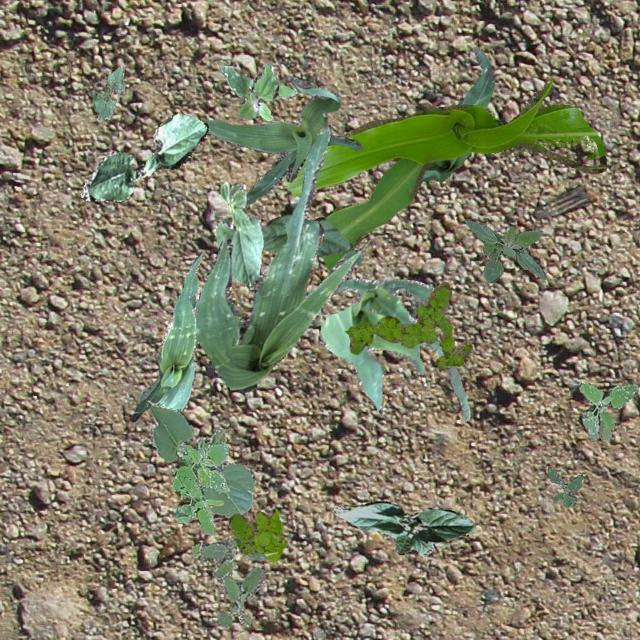crop: (282, 78, 606, 270), (195, 124, 364, 392), (318, 278, 468, 420), (198, 76, 360, 204), (128, 250, 202, 420), (149, 400, 253, 516), (78, 111, 208, 200), (421, 46, 493, 180), (334, 501, 474, 556), (214, 182, 262, 286), (260, 213, 352, 254), (92, 66, 124, 120)
weed: (344, 280, 471, 368), (190, 532, 266, 624), (172, 439, 230, 534), (464, 218, 544, 282), (220, 60, 296, 120), (578, 381, 636, 442), (228, 508, 286, 560), (546, 466, 582, 506)
